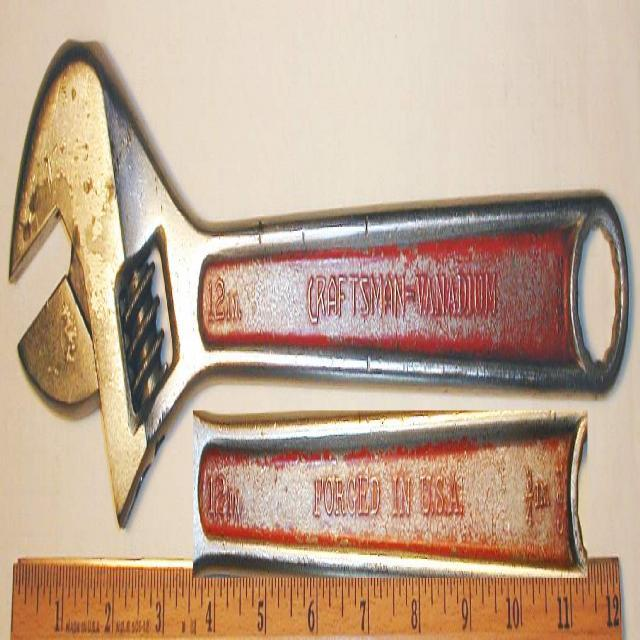wrench: (6, 38, 633, 544)
